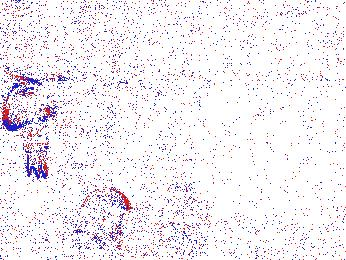flame jellyfish: (2, 81, 60, 178), (76, 187, 131, 243)
